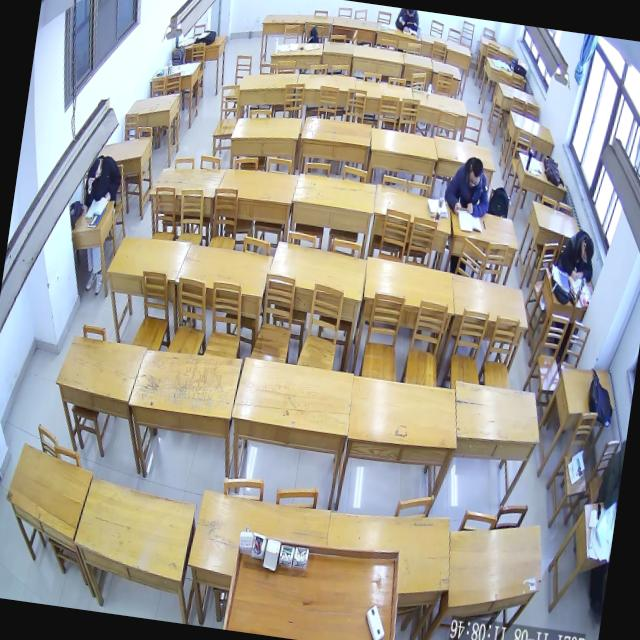down: (466, 157, 486, 191), (578, 236, 596, 267), (86, 156, 104, 182)
sit: (442, 152, 498, 218), (81, 147, 127, 214), (555, 225, 601, 286)
